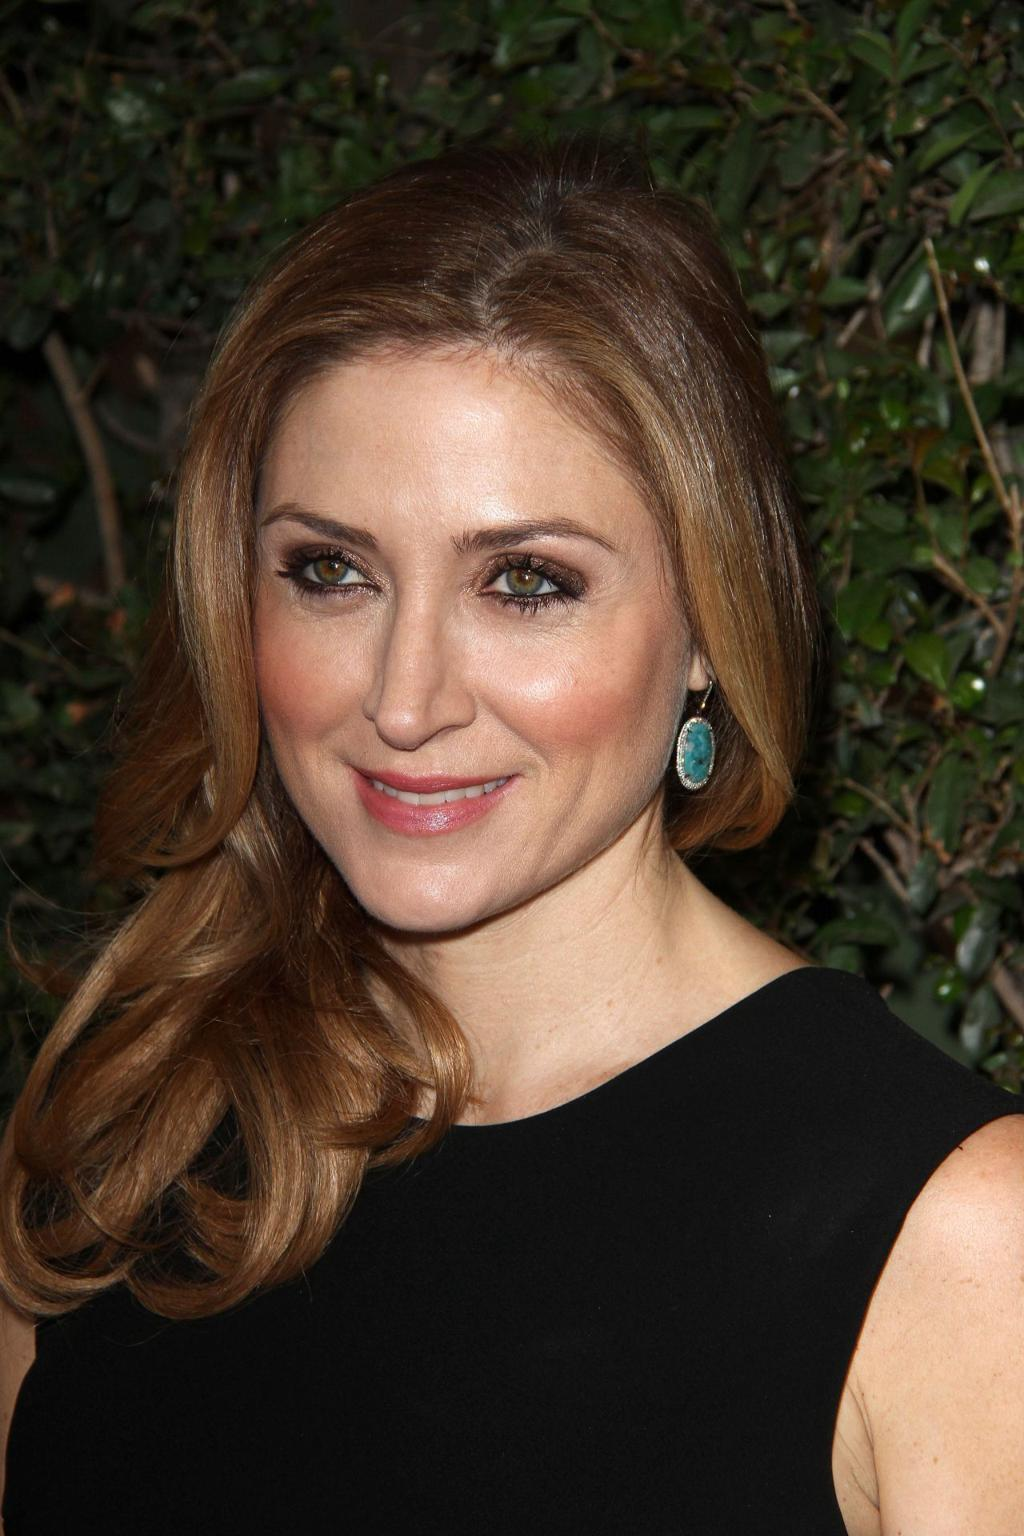face: (258, 336, 690, 928)
